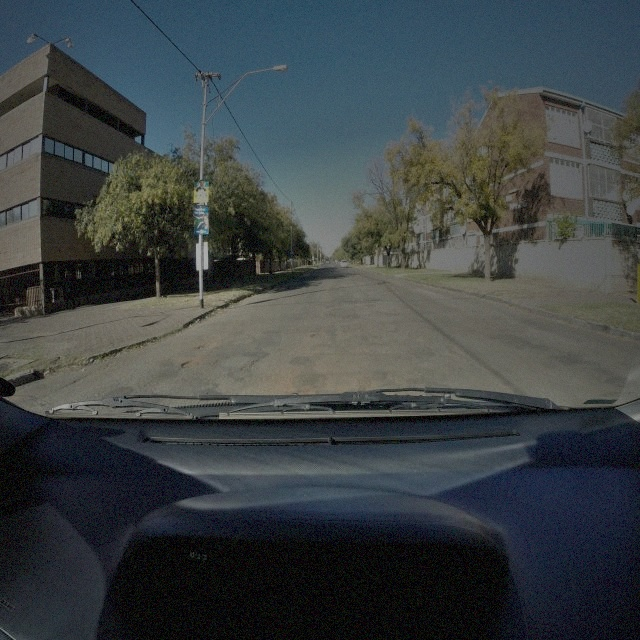pothole: (181, 358, 209, 369), (296, 387, 318, 396), (311, 332, 324, 339)
